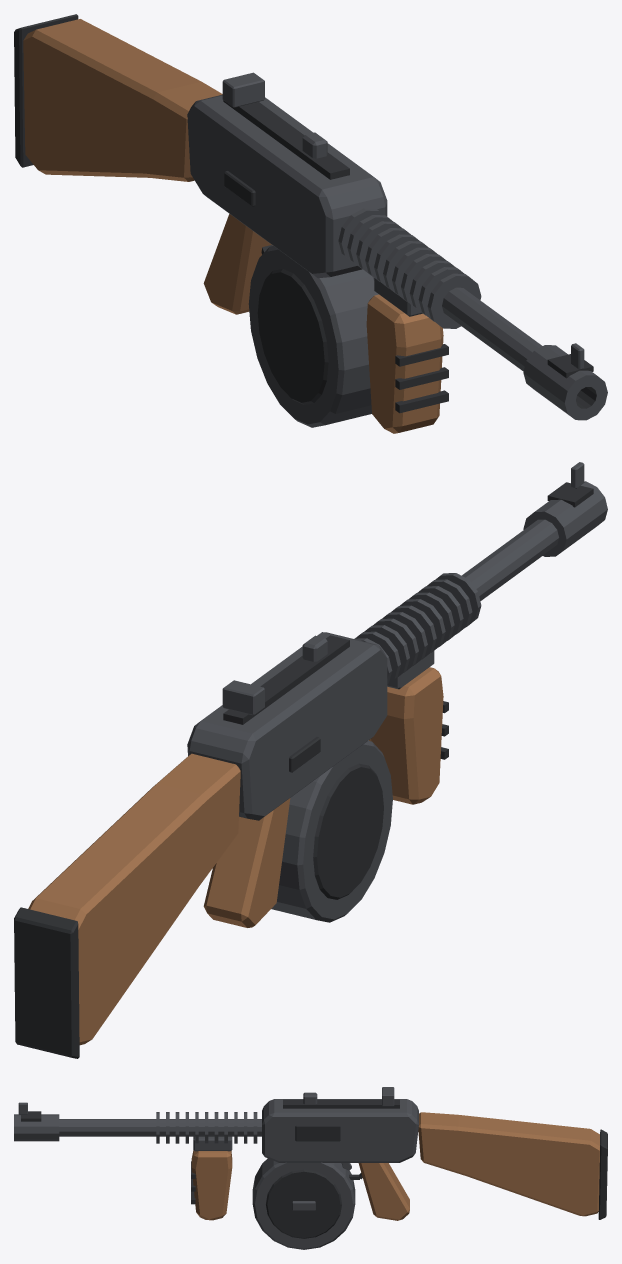
Rendered from cultist-smg.glb.
The picture shows the model from 3 angles, top to bottom: view 1: azimuth 30°, elevation 25°; view 2: azimuth 150°, elevation 25°; view 3: azimuth 270°, elevation 25°; orthographic projection. The views are drawn at different scales.
Parts seen in each view (by area): view 1: CultistSMG; view 2: CultistSMG; view 3: CultistSMG.
Boxes of the visible parts, x1,y1,x2,y2 form: CultistSMG: [14, 14, 607, 433]; CultistSMG: [14, 462, 607, 1058]; CultistSMG: [14, 1087, 607, 1249].
Bounding box in the file's own units: 0.058 × 0.216 × 0.762.
